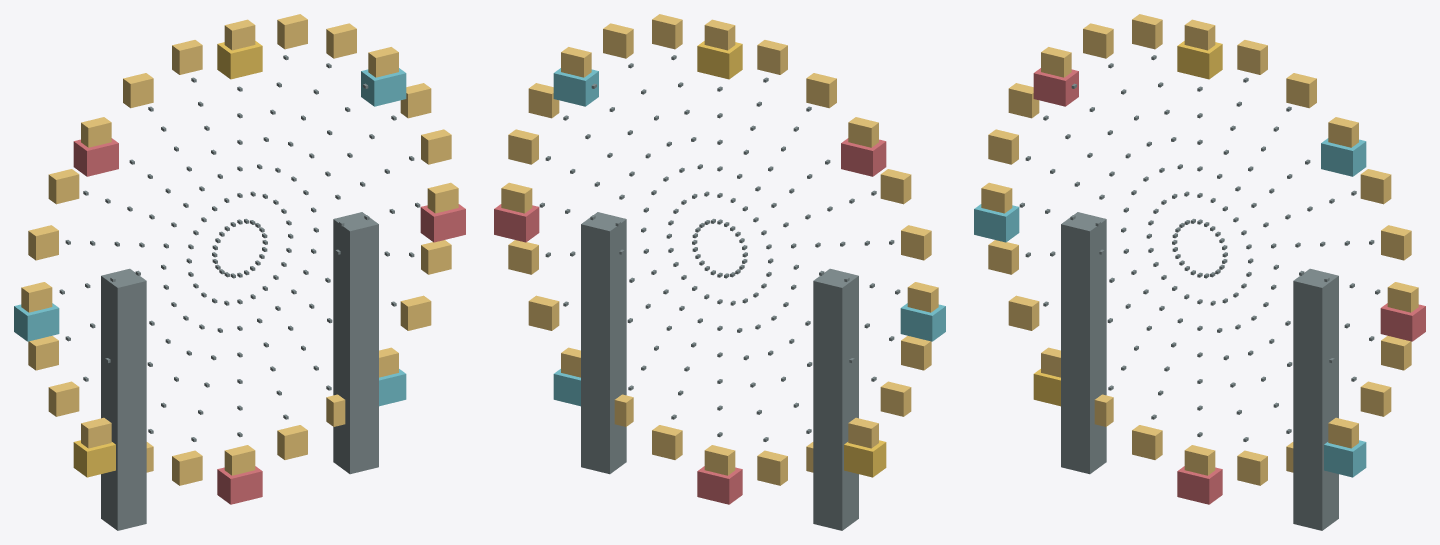
Rendered from ferris-wheel.glb.
3 views of the same model, side by side, from view 1: azimuth 30°, elevation 25°; view 2: azimuth 150°, elevation 25°; view 3: azimuth 330°, elevation 25° (orthographic).
Size of the model in its own units: 15.1 by 15.5 by 1.
